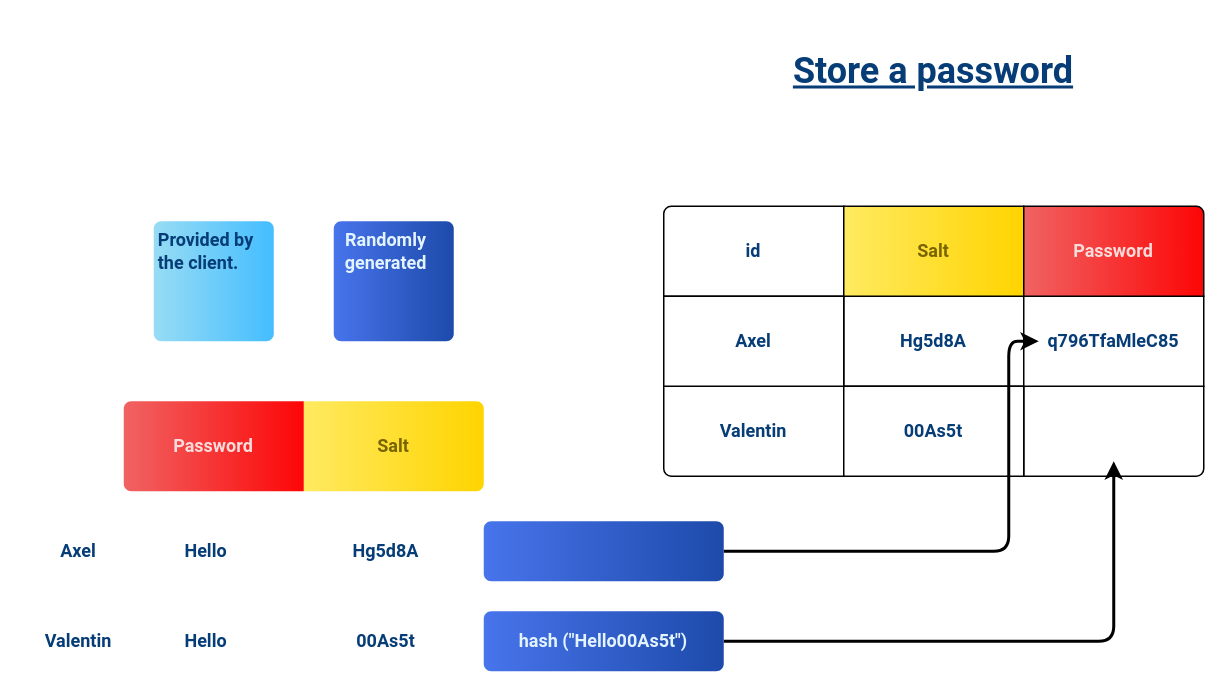
The diagram is 1230 pixels wide and 698 high, and some of its shapes have lost their labels. Here are the shapes that lost their labels. From the top down, the box of each, then its label:
(1022, 385, 1204, 476): 2MpV3As5dia68a
(483, 520, 723, 580): hash ("HelloHg5d8A")
